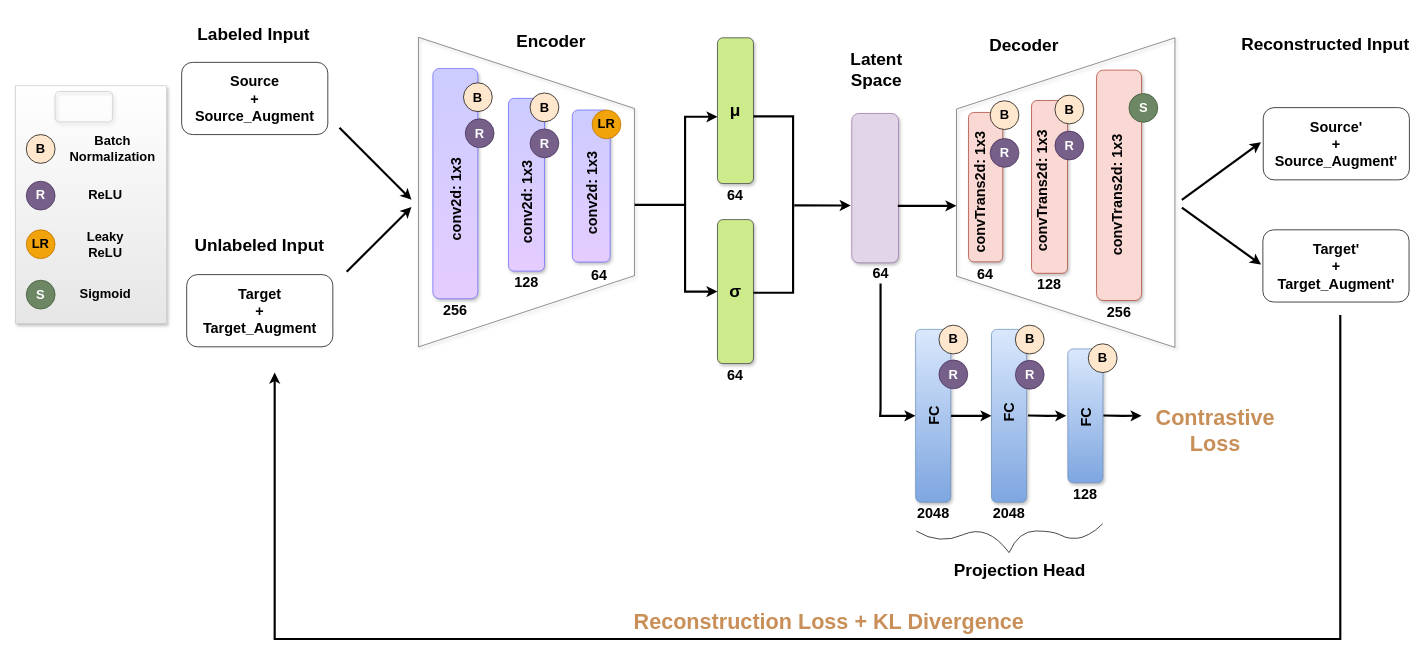
Some shapes in this 1424 by 659 pixel diagram are drawn without their labels. The shapes that lost their labels are listed below. From the top down, each one's centre as x and y in pixels, then its label:
At [84,107]: "Legend".
At [875,189]: "Z Z_Augment".
